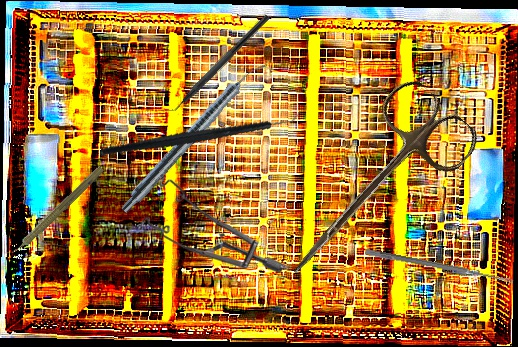Chopper: (99, 69, 304, 194), (159, 7, 271, 121)
Handpiece: (117, 54, 269, 219), (2, 162, 107, 263)
Iris Scissors: (260, 72, 485, 309)
Speculum: (138, 176, 284, 273)
Surgical Spoon: (364, 248, 515, 285)
